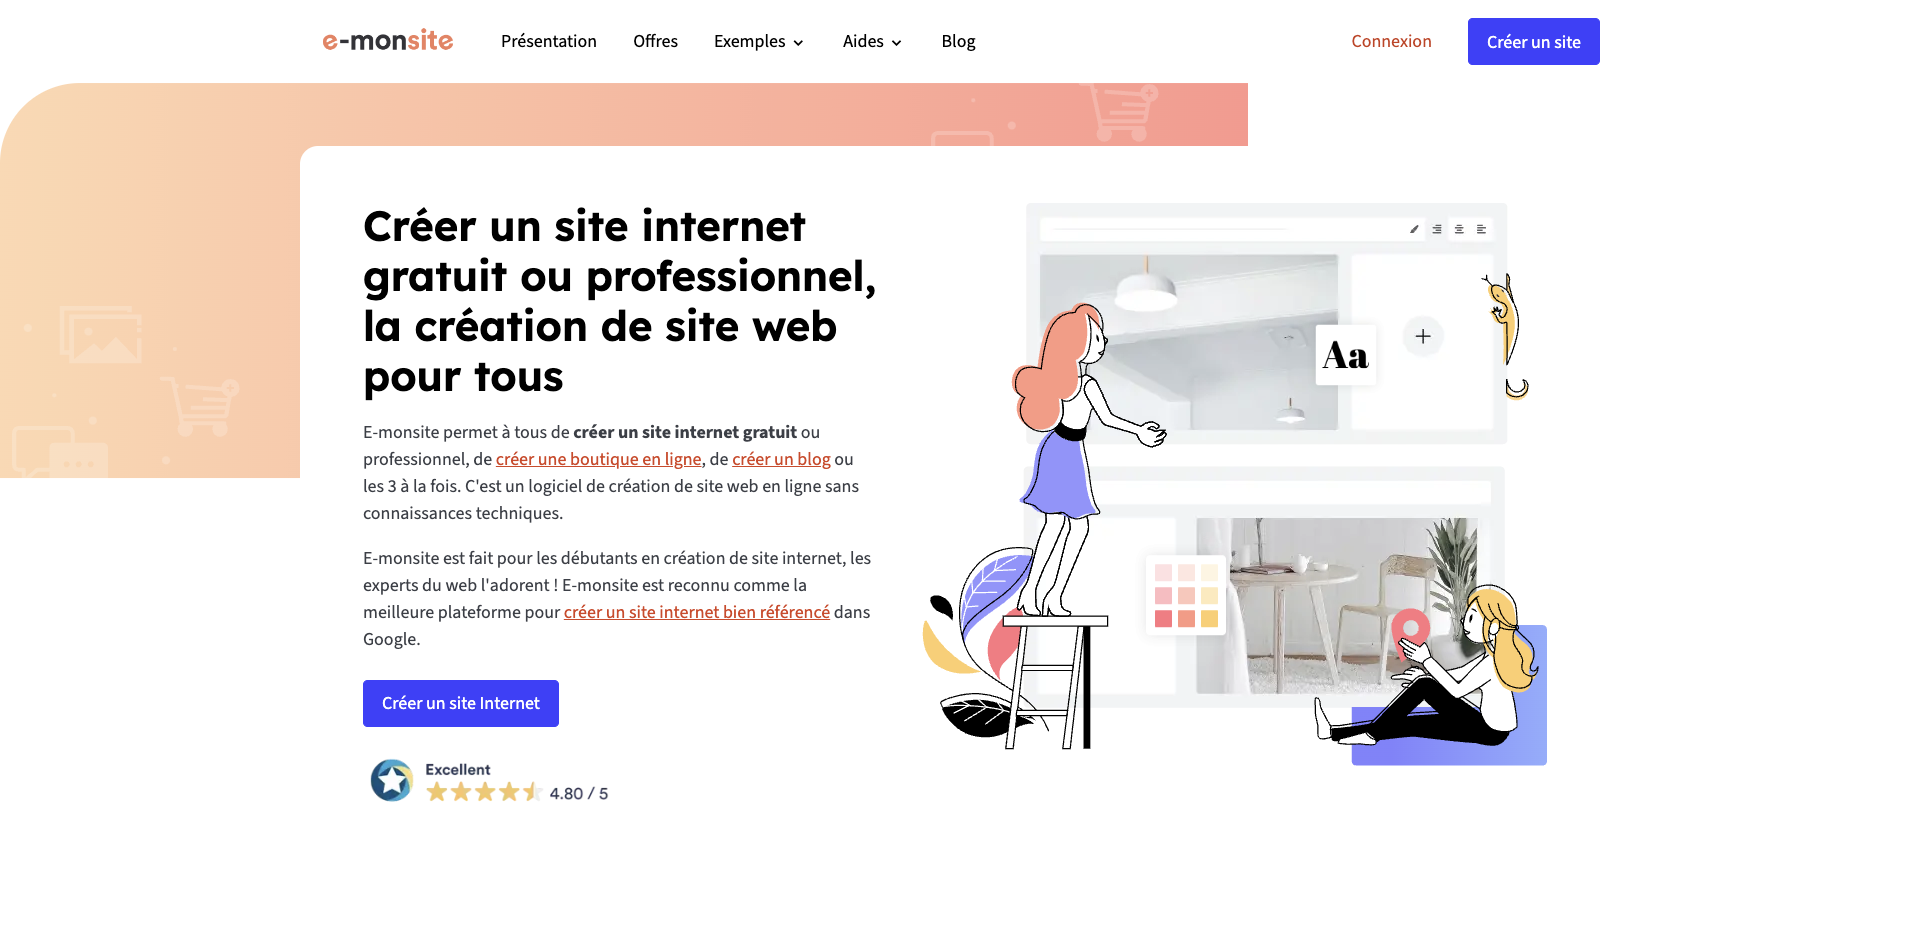button: (362, 680, 558, 727), (1468, 18, 1600, 65)
dropdown: (696, 18, 825, 65), (825, 18, 923, 65)
link: (563, 599, 830, 625), (362, 768, 623, 793), (482, 18, 615, 62), (696, 18, 825, 62), (1333, 18, 1450, 62), (496, 447, 702, 472), (825, 18, 923, 62), (320, 27, 465, 56), (615, 18, 696, 62), (923, 18, 993, 62), (732, 447, 830, 472)
